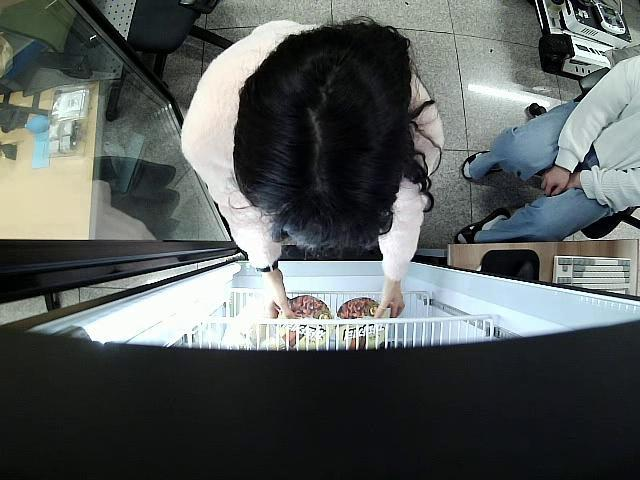03_chapagetti_L: (275, 296, 332, 350), (337, 296, 388, 350)
